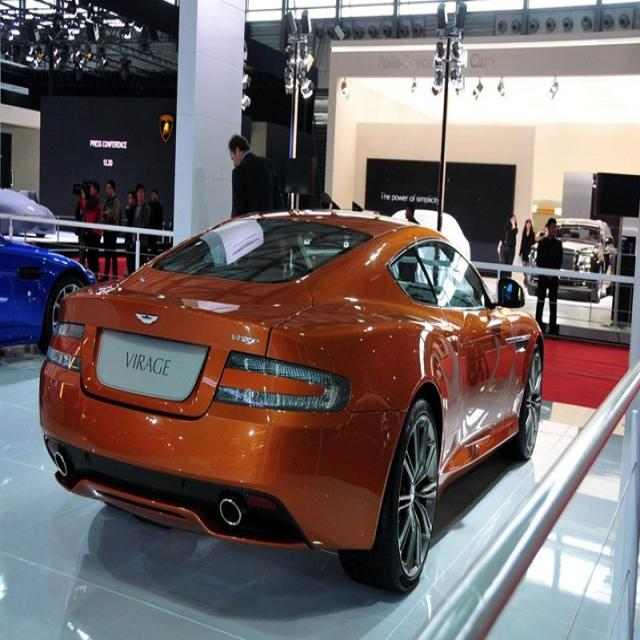back_glass: (150, 214, 374, 286)
back_left_side_light: (46, 319, 84, 376)
back_right_side_light: (210, 350, 352, 416)
front_right_side_door: (414, 232, 514, 453)
front_right_side_mirror: (494, 273, 526, 313)
rear_bumper: (37, 356, 410, 556)
wheel: (337, 398, 441, 584), (498, 349, 542, 463)
